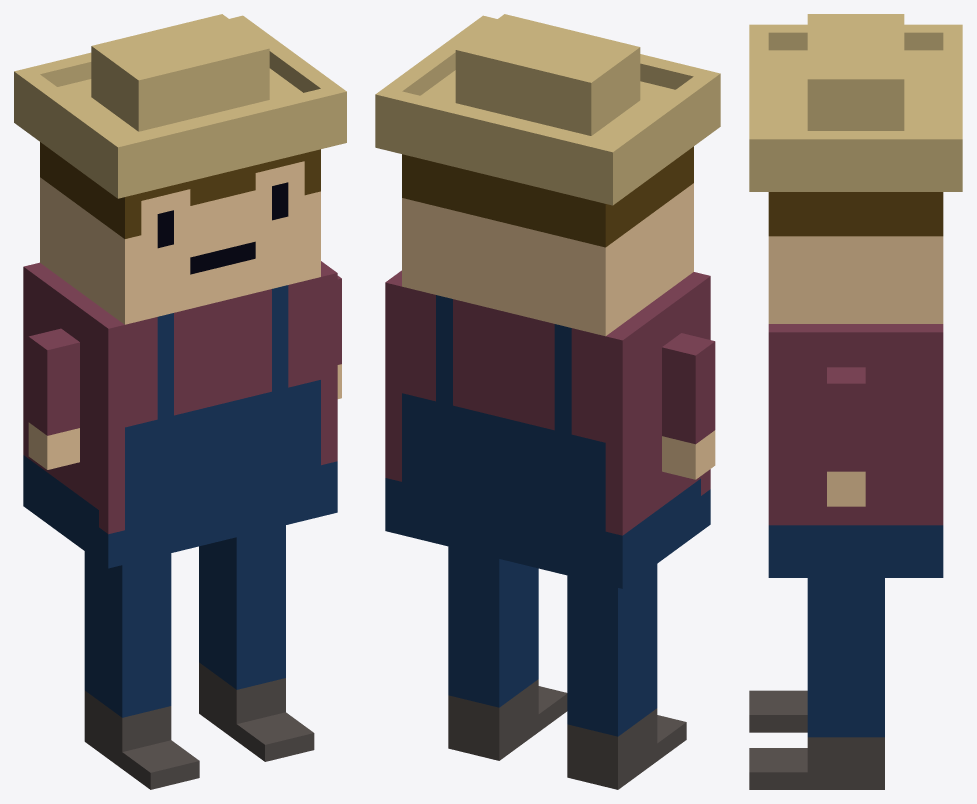
Rendered from Player19.obj.
3 views of the same model, side by side, from view 1: azimuth 30°, elevation 25°; view 2: azimuth 150°, elevation 25°; view 3: azimuth 270°, elevation 25° (orthographic). The views are drawn at different scales.
Parts seen in each view (by area): view 1: Player19; view 2: Player19; view 3: Player19.
Boxes of the visible parts, left/top/right/bottom form: Player19: left=14, top=14, right=346, bottom=789; Player19: left=375, top=14, right=720, bottom=789; Player19: left=749, top=14, right=962, bottom=789.
Bounding box in the file's own units: 18 × 40 × 11.
